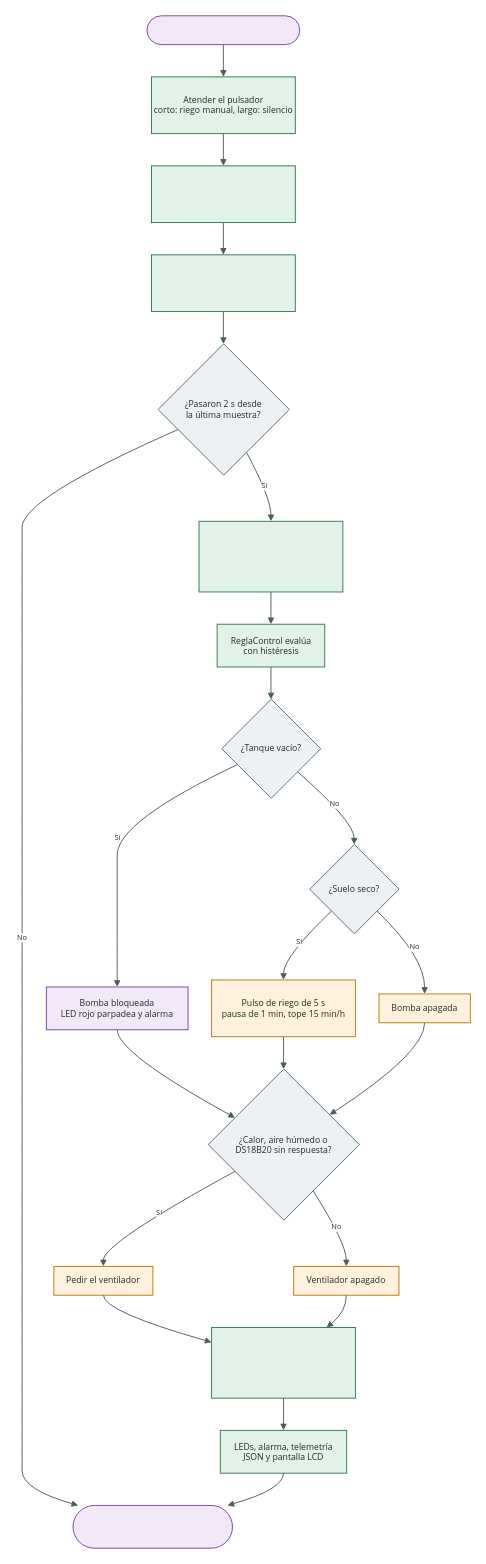
The diagram is 486 pixels wide and 1564 high, and some of its shapes have lost their labels. Here are the shapes that lost their labels. From the top down, the box of each, then its label:
(146, 15, 300, 45): Inicio de una vuelta de loop
(151, 165, 295, 223): Atender comandos serie validar, aplicar y guardar en EEPROM
(151, 254, 295, 312): Actualizar actuadores fin de pulso, parpadeos y pitidos
(198, 521, 343, 592): Leer sensores DS18B20, contacto del HR202, sondas de suelo y tanque
(211, 1327, 356, 1398): repartirEnergia una carga a la vez: la bomba antes que el ventilador
(72, 1505, 233, 1548): Fin de la vuelta, loop vuelve a empezar
